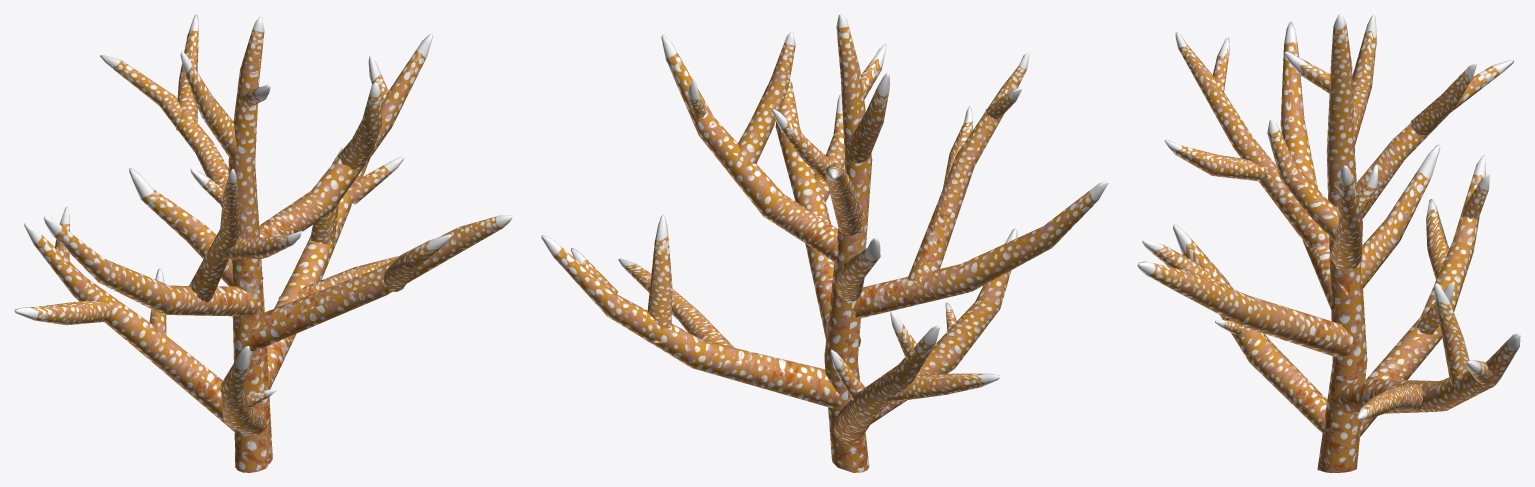
Rendered from StaghornCoral00e.fbx.
3 renders of one model, left to right at view 1: azimuth 30°, elevation 25°; view 2: azimuth 150°, elevation 25°; view 3: azimuth 270°, elevation 25°, orthographic. The views are drawn at different scales.
Visible parts, largest first — view 1: Staghorn_00e; view 2: Staghorn_00e; view 3: Staghorn_00e.
Boxes of the visible parts, x1,y1,x2,y2 form: Staghorn_00e: [14, 14, 512, 472]; Staghorn_00e: [541, 14, 1108, 472]; Staghorn_00e: [1137, 14, 1520, 472].
Size of the model in its own units: 1 by 0.9465 by 0.7102.
